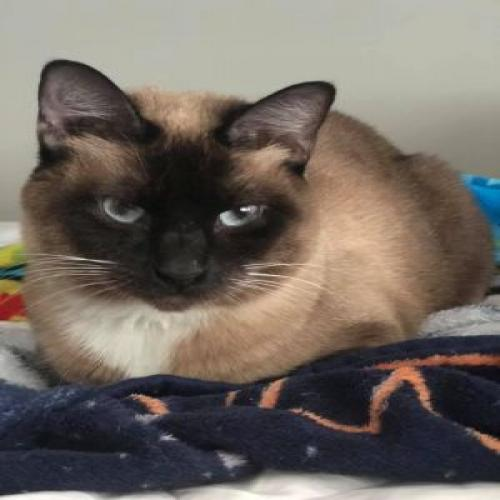siamese: (18, 35, 347, 335)
